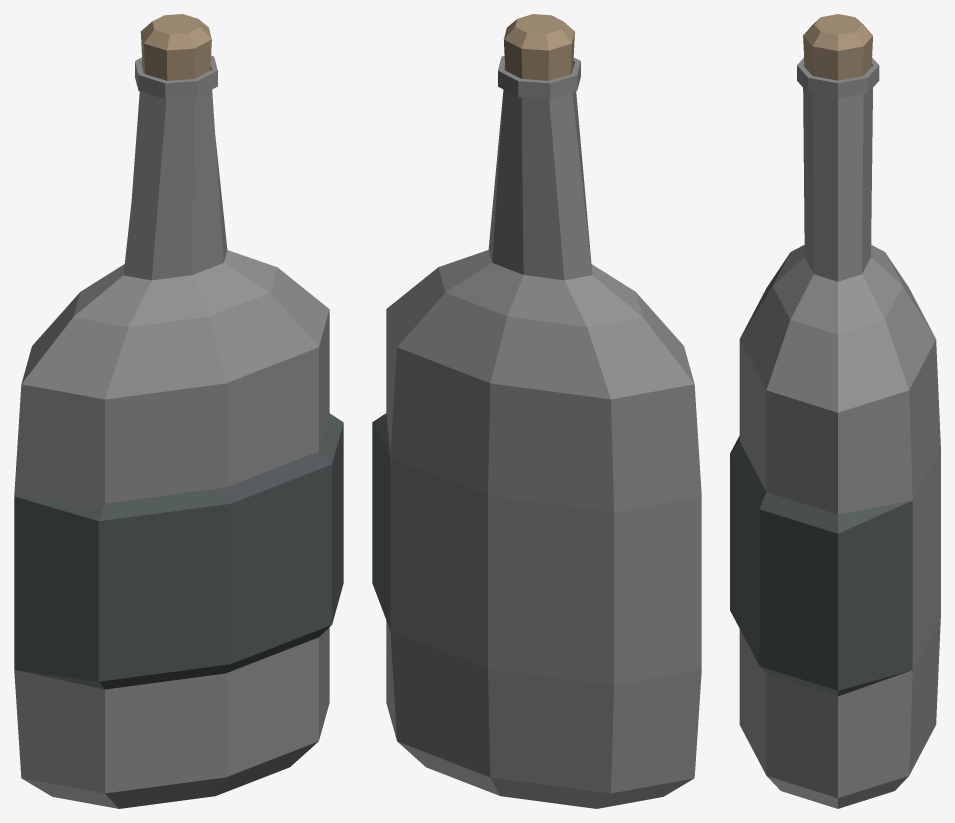
Rendered from Whiskey.fbx.
3 views of the same model, side by side, from view 1: azimuth 30°, elevation 25°; view 2: azimuth 150°, elevation 25°; view 3: azimuth 270°, elevation 25° (orthographic). The views are drawn at different scales.
Parts seen in each view (by area): view 1: Whiskey; view 2: Whiskey; view 3: Whiskey.
Boxes of the visible parts, box(x1,y1,x2,y2) form: Whiskey: box(14, 14, 343, 808); Whiskey: box(372, 14, 701, 808); Whiskey: box(730, 14, 940, 808).
Size of the model in its own units: 11.64 by 25.06 by 6.59.
